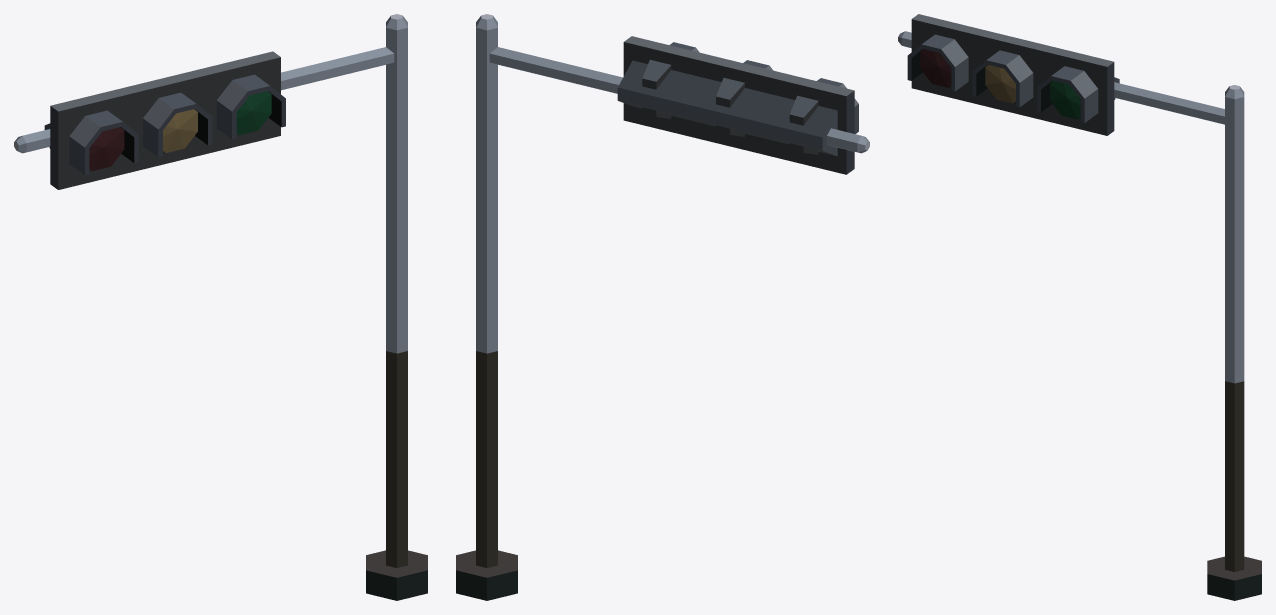
Rendered from TB_CITY_Prop_TrafficLight_VSet_Black.FBX.
3 renders of one model, left to right at view 1: azimuth 30°, elevation 25°; view 2: azimuth 150°, elevation 25°; view 3: azimuth 330°, elevation 25°, orthographic. The views are drawn at different scales.
Parts seen in each view (by area): view 1: TB_CITY_Prop_TrafficLight_VSet_Black; view 2: TB_CITY_Prop_TrafficLight_VSet_Black; view 3: TB_CITY_Prop_TrafficLight_VSet_Black.
Part boxes in pixels (x1,y1,x2,y2): TB_CITY_Prop_TrafficLight_VSet_Black: (14,14,427,600); TB_CITY_Prop_TrafficLight_VSet_Black: (456,14,869,600); TB_CITY_Prop_TrafficLight_VSet_Black: (898,14,1261,600).
Size of the model in its own units: 5.62 by 7.45 by 1.07.
